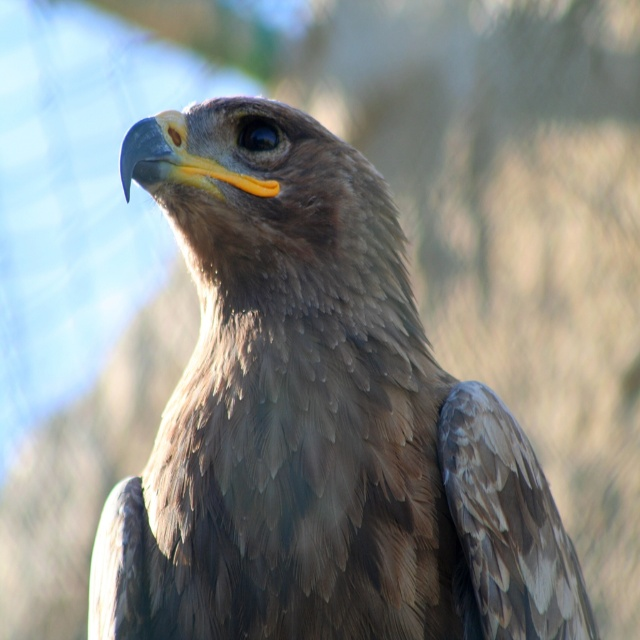Eagle: (88, 92, 599, 639)
